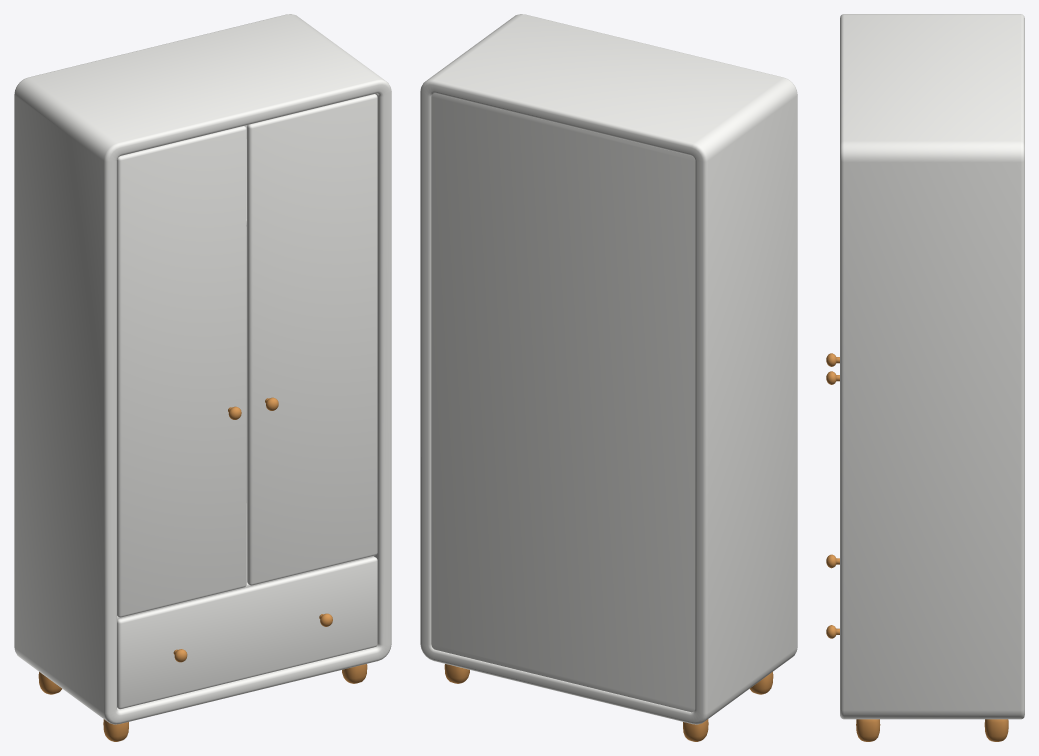
File: armario_2portas_gaveta_branco.glb
3 renders of one model, left to right at view 1: azimuth 30°, elevation 25°; view 2: azimuth 150°, elevation 25°; view 3: azimuth 270°, elevation 25°, orthographic.
Visible parts, largest first — view 1: armario_2portas_gaveta_branco, porta_2, porta_1, gaveta_1; view 2: armario_2portas_gaveta_branco; view 3: armario_2portas_gaveta_branco.
Part boxes in pixels (x1=…): armario_2portas_gaveta_branco: x1=14, y1=14, x2=391, y2=741; porta_2: x1=247, y1=94, x2=377, y2=585; porta_1: x1=117, y1=126, x2=246, y2=617; gaveta_1: x1=117, y1=556, x2=377, y2=709; armario_2portas_gaveta_branco: x1=420, y1=14, x2=797, y2=741; armario_2portas_gaveta_branco: x1=840, y1=14, x2=1024, y2=741.
Size of the model in its own units: 0.82 by 1.66 by 0.4946.
1 material, 1 textured.
